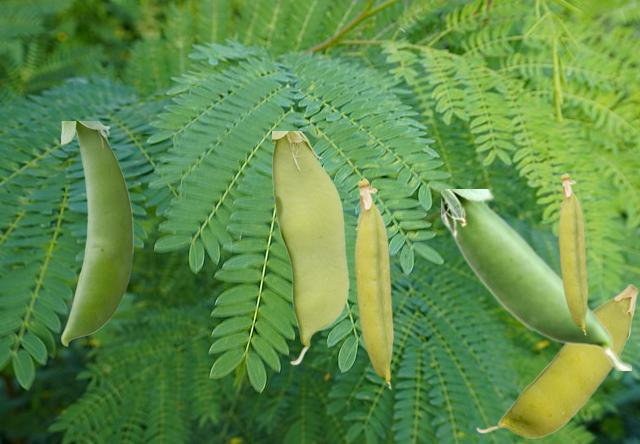pea: (441, 189, 630, 369), (476, 284, 637, 437), (272, 131, 348, 364), (61, 121, 132, 345), (354, 177, 393, 388), (558, 172, 587, 334)
